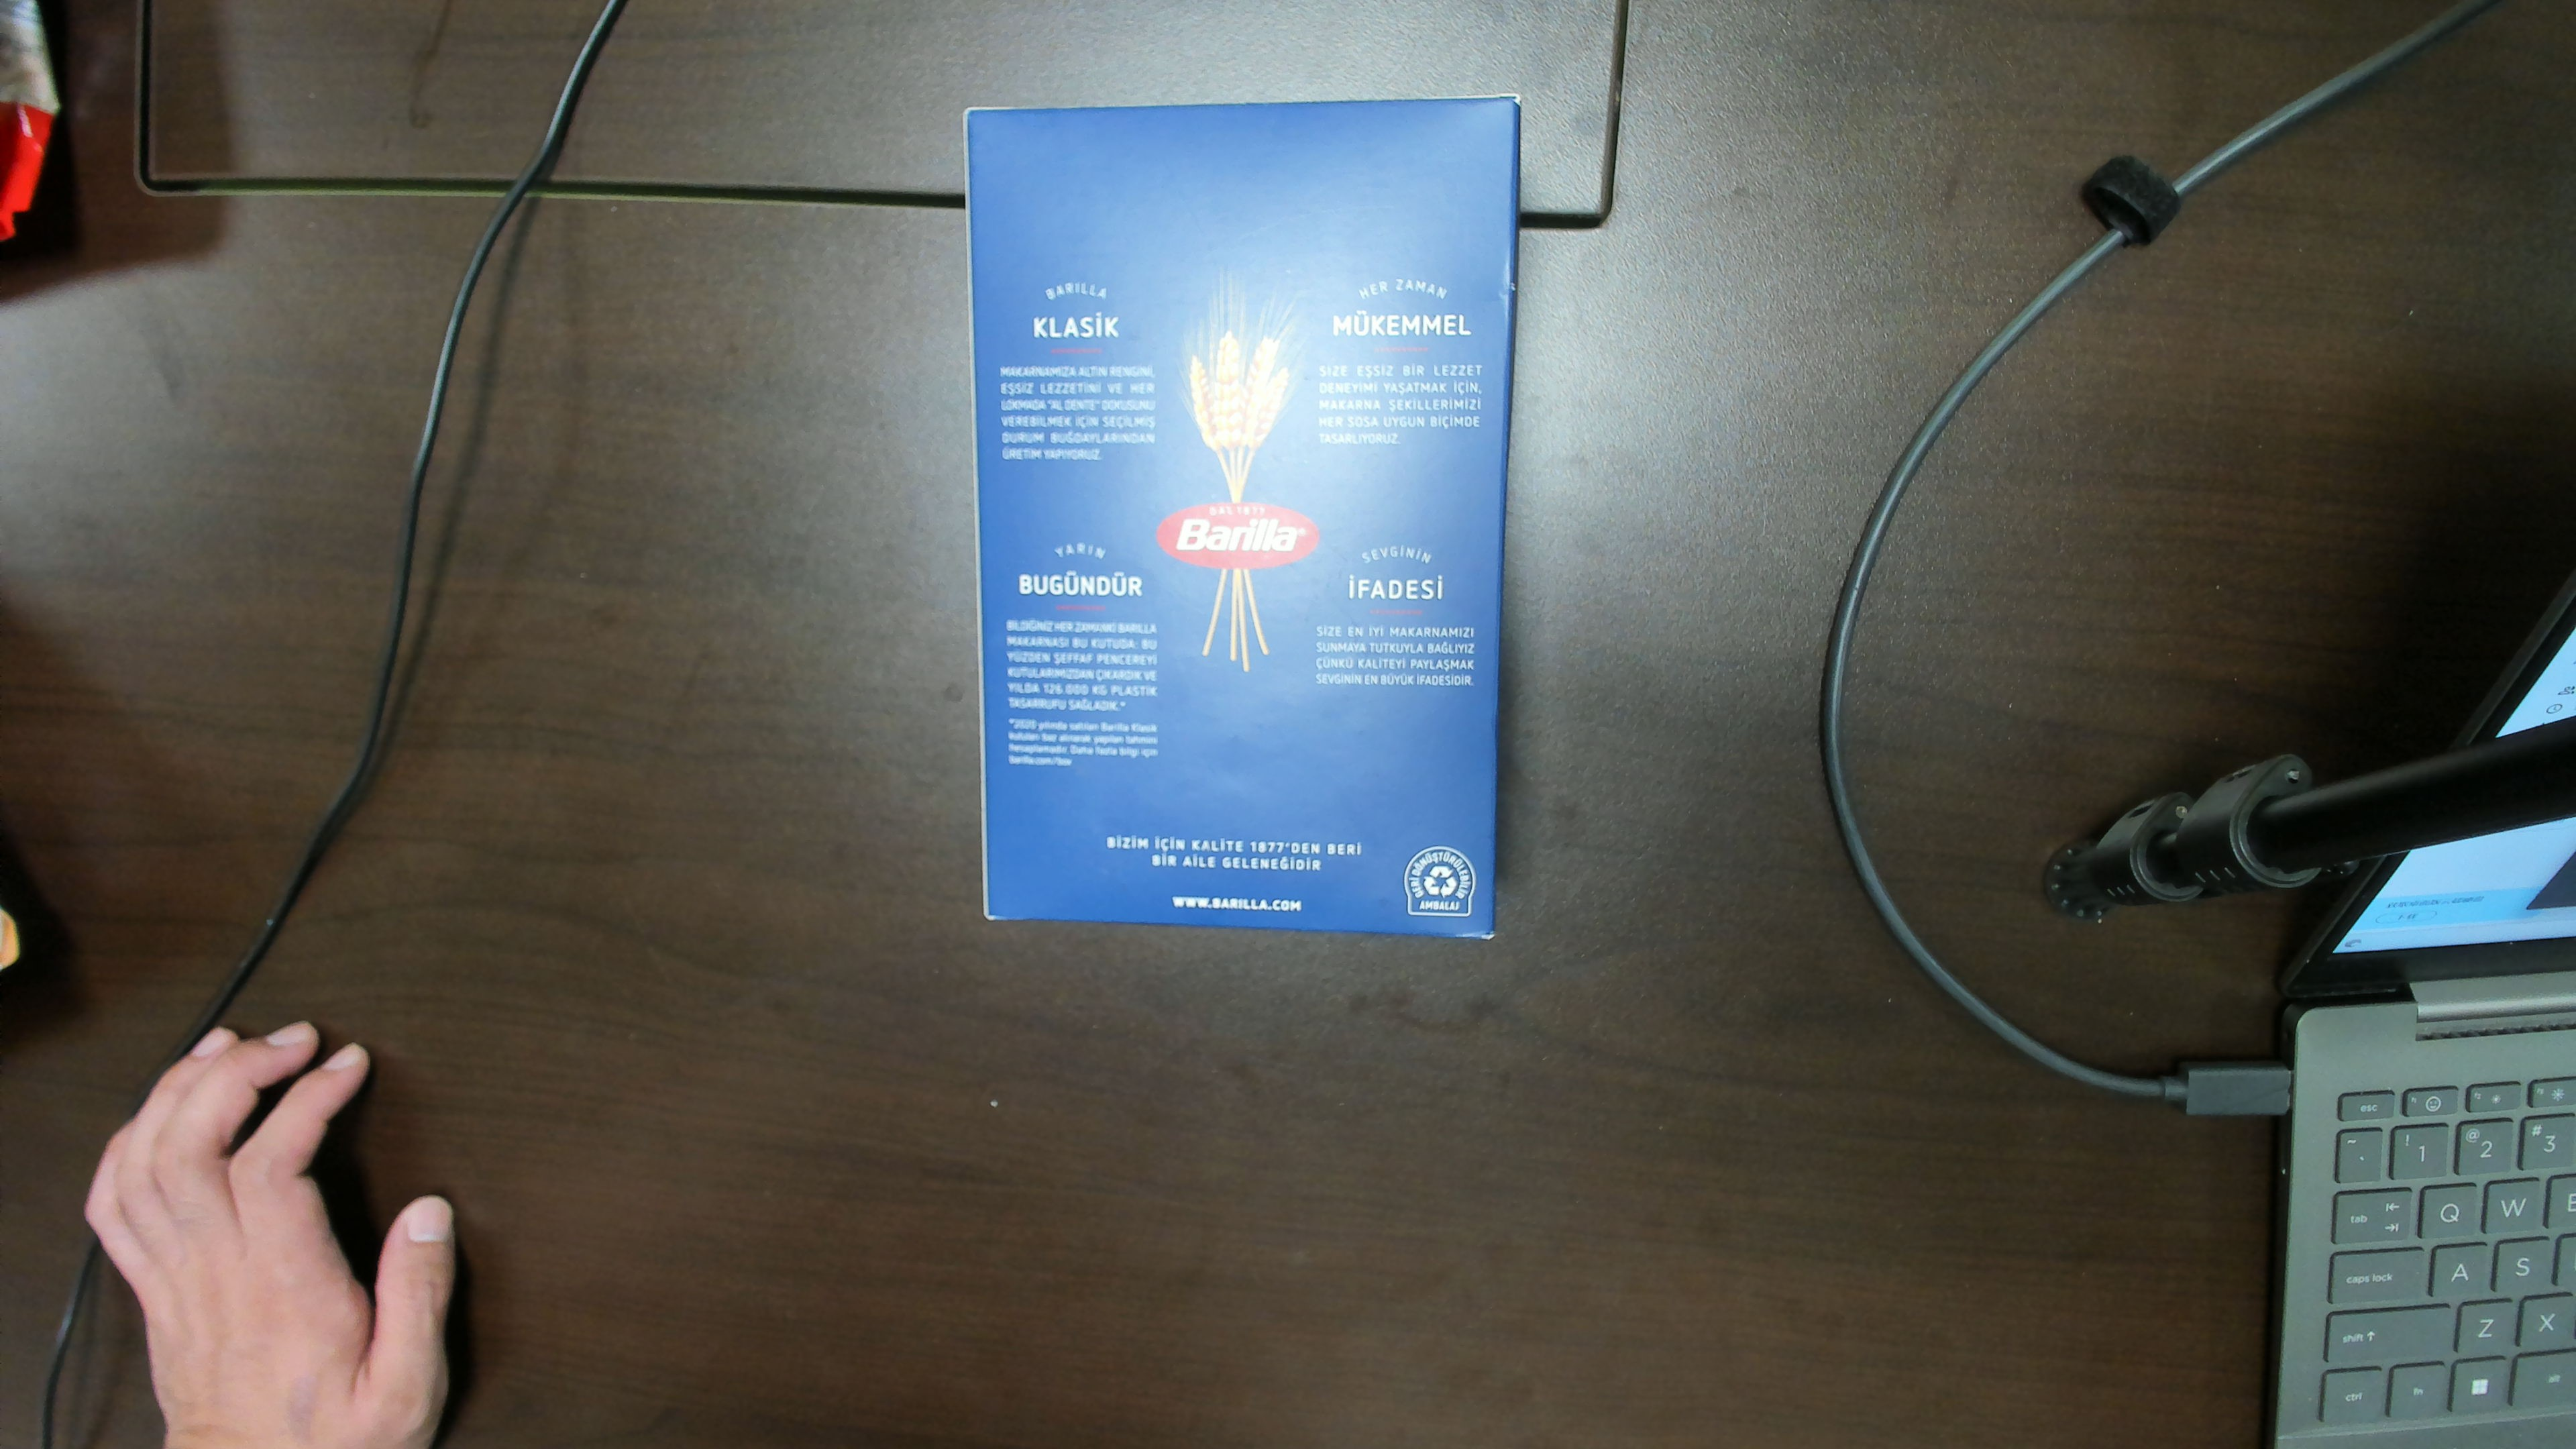Pasta_400-499g_Halal_NonHealthy: (980, 119, 1488, 936)
